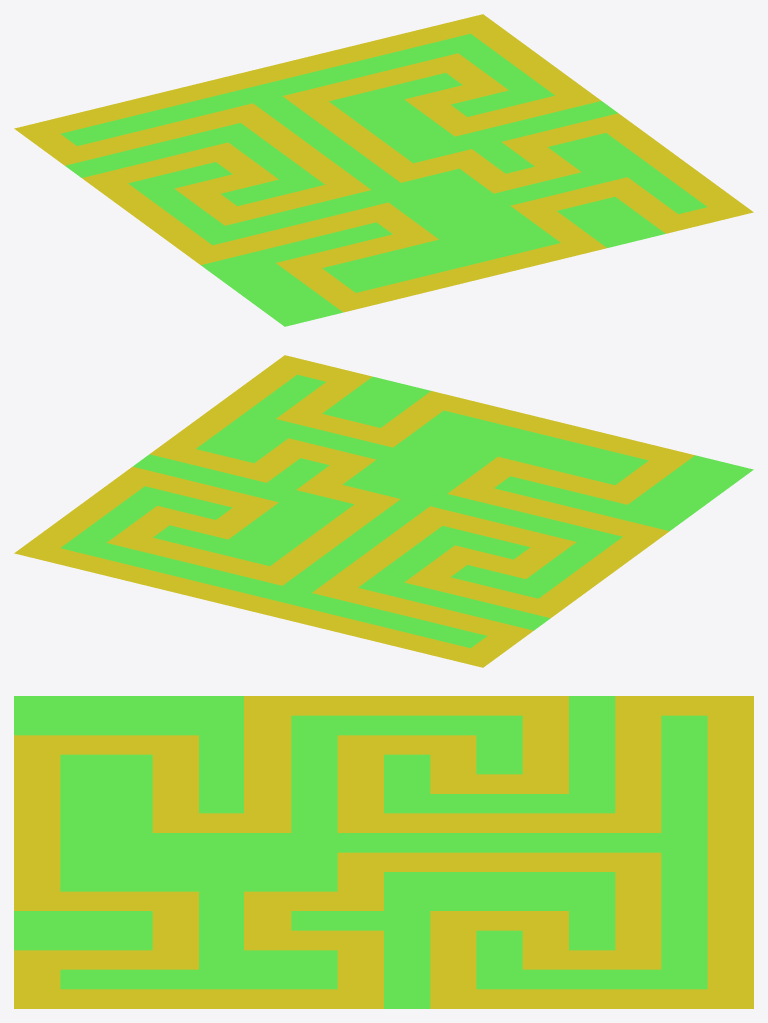
Rendered from course.glb.
The picture shows the model from 3 angles, top to bottom: view 1: azimuth 30°, elevation 25°; view 2: azimuth 150°, elevation 25°; view 3: azimuth 270°, elevation 25°; orthographic projection. The views are drawn at different scales.
Parts seen in each view (by area): view 1: Plane; view 2: Plane; view 3: Plane.
Boxes of the visible parts, x1,y1,x2,y2 form: Plane: [14, 14, 753, 326]; Plane: [14, 355, 753, 667]; Plane: [14, 696, 753, 1008].
Bounding box in the file's own units: 10000 × 0 × 10000.
